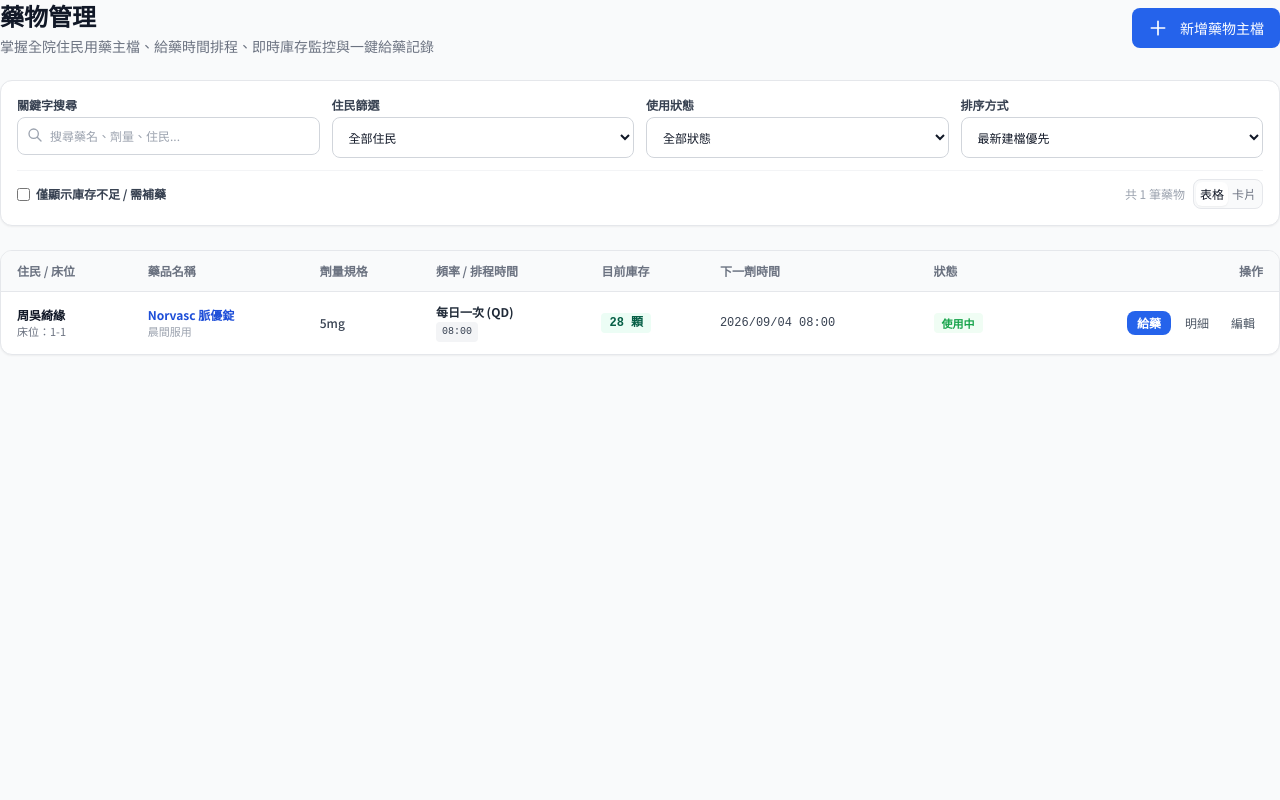
MedicationsPage › opens administer modal when clicking 給藥 button
Check: the link "Norvasc 脈優錠" is shown, box [148,306,234,323]
Click the button "給藥".
click(1149, 323)  # box [1127,311,1171,335]
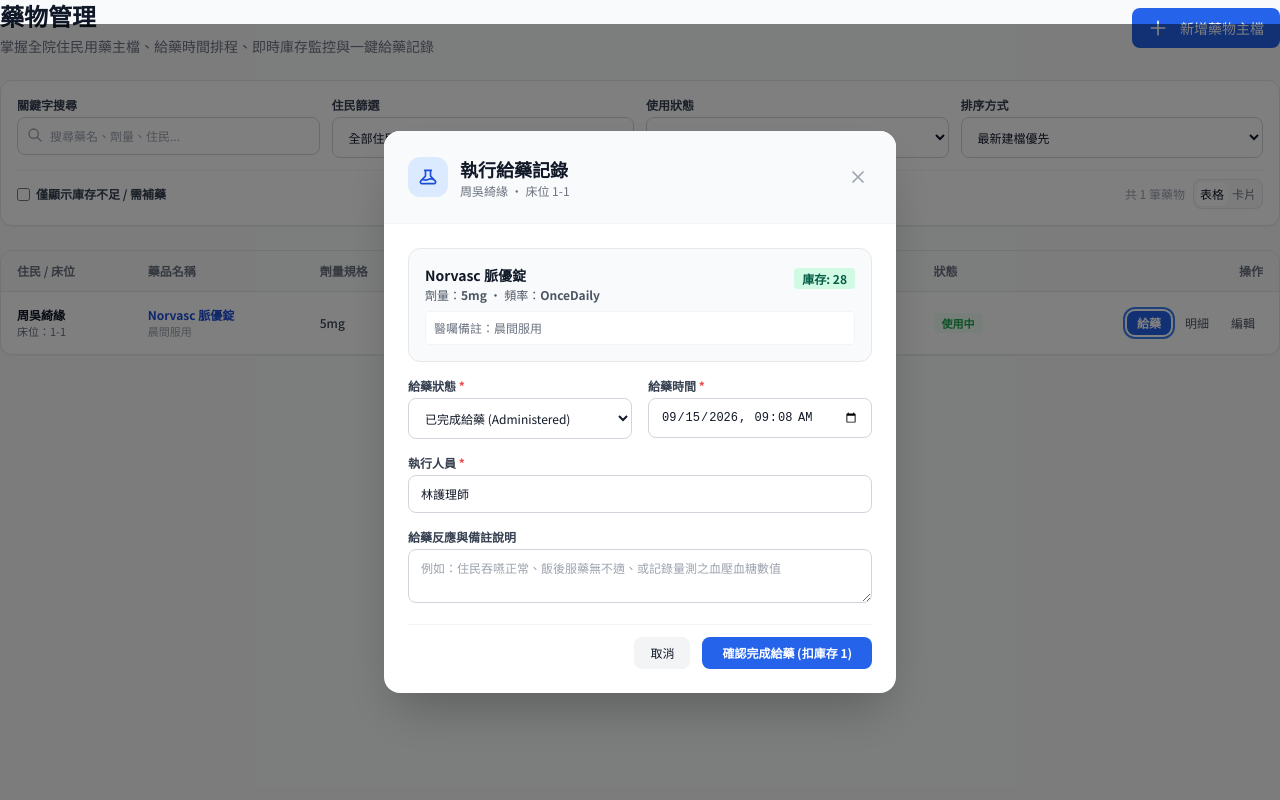
Check: the heading "執行給藥記錄" is shown, box [460,155,570,183]
Check: the field showing "林護理師" is shown, box [408,475,872,513]
